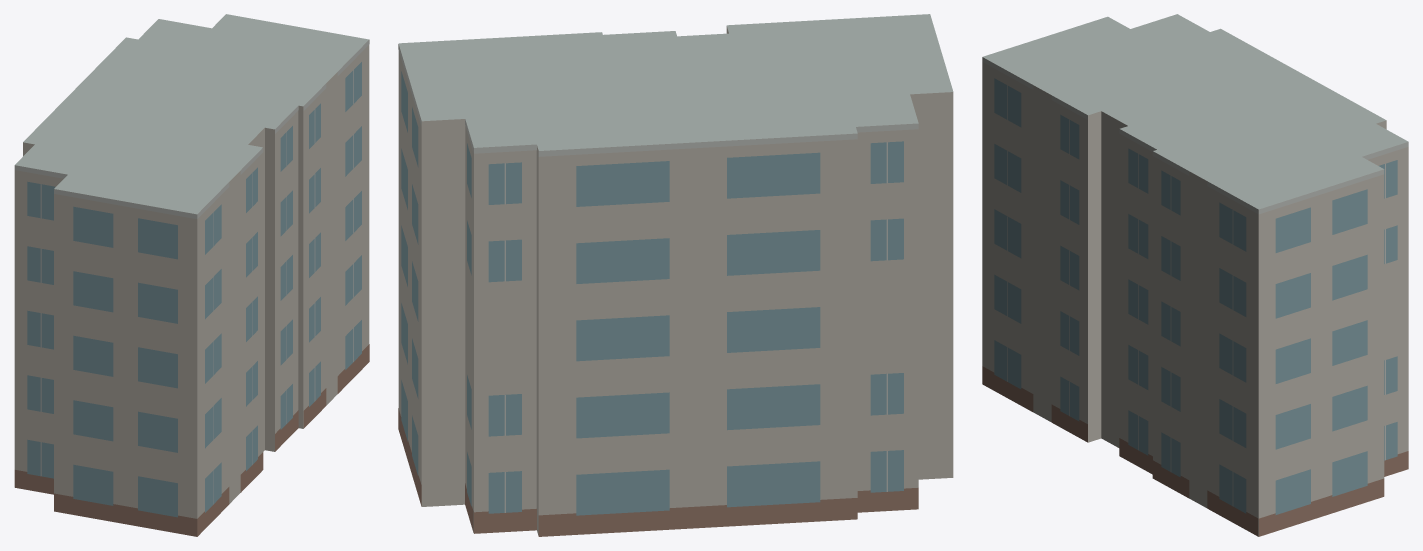
File: survey-upis-32630620.glb
3 renders of one model, left to right at view 1: azimuth 30°, elevation 25°; view 2: azimuth 150°, elevation 25°; view 3: azimuth 270°, elevation 25°, orthographic. The views are drawn at different scales.
Parts seen in each view (by area): view 1: survey-upis-32630620.tmp; view 2: survey-upis-32630620.tmp; view 3: survey-upis-32630620.tmp.
Part boxes in pixels (x1,y1,x2,y2): survey-upis-32630620.tmp: (14, 14, 369, 536); survey-upis-32630620.tmp: (398, 14, 953, 536); survey-upis-32630620.tmp: (982, 14, 1408, 536).
Bounding box in the file's own units: 20.87 × 16.28 × 19.23.
